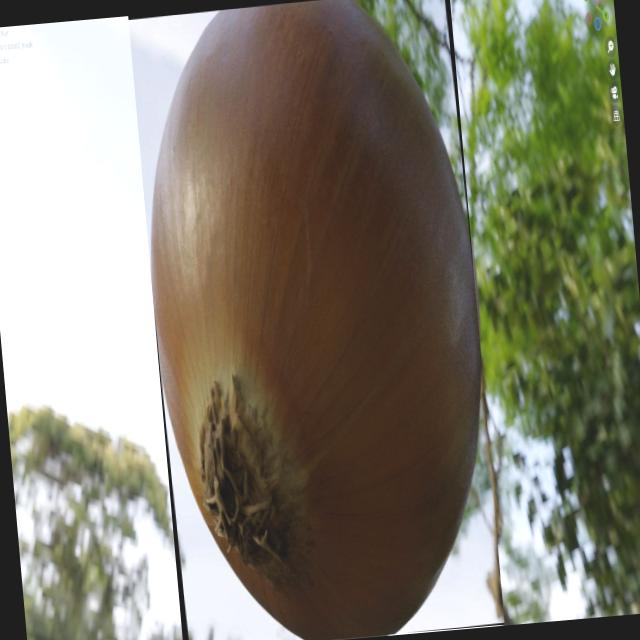healthy: (151, 0, 481, 639)
